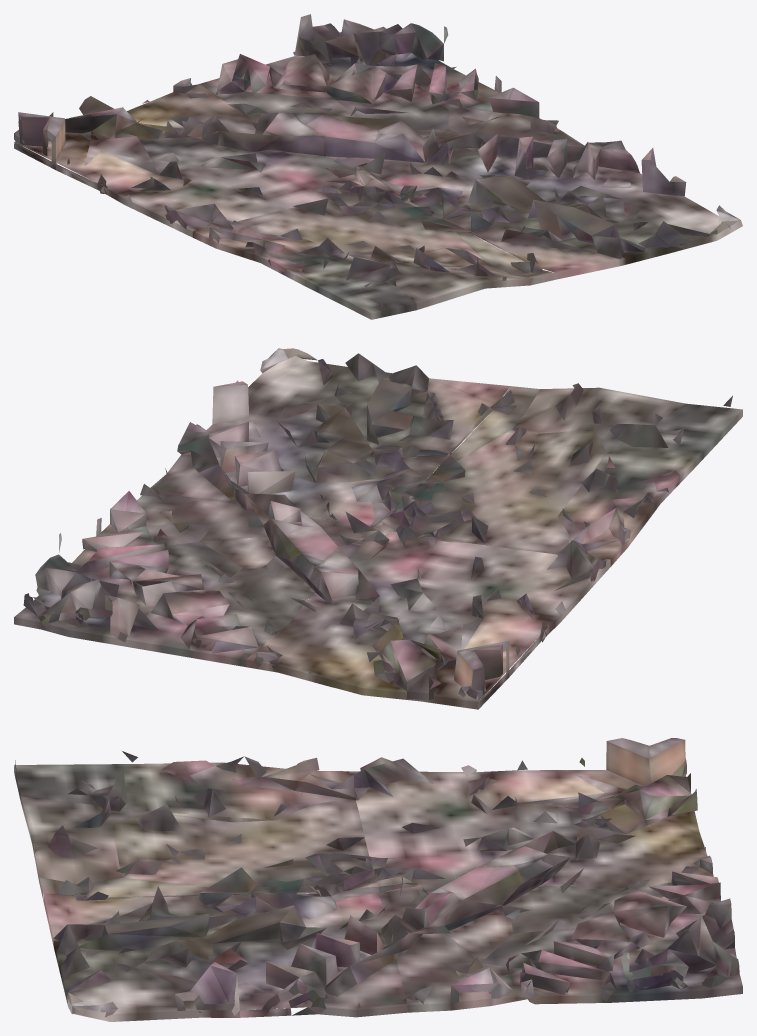
3 views of the same model, one above another, from view 1: azimuth 30°, elevation 25°; view 2: azimuth 150°, elevation 25°; view 3: azimuth 270°, elevation 25° (orthographic). The views are drawn at different scales.
Parts seen in each view (by area): view 1: Mesh_0; view 2: Mesh_0; view 3: Mesh_0.
Part boxes in pixels (<box>): Mesh_0: <box>14,14,742,319</box>; Mesh_0: <box>14,348,742,709</box>; Mesh_0: <box>14,738,742,1021</box>.
Bounding box in the file's own units: 535 × 68.44 × 659.
Materials: 1 (1 with a texture image).
